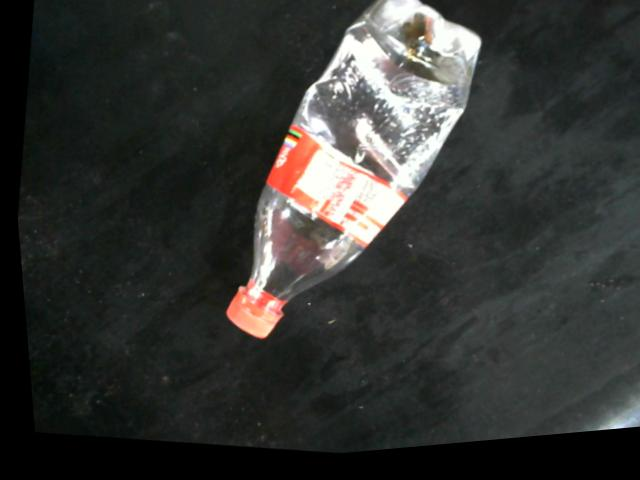bottle: (218, 0, 481, 345)
